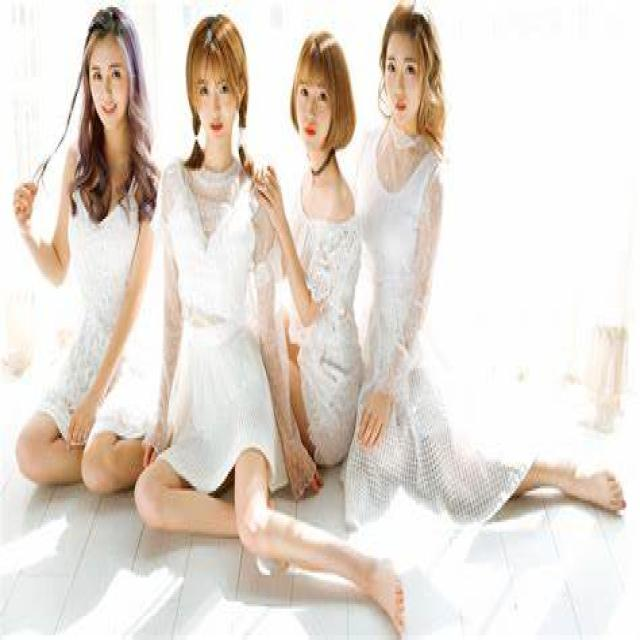sit: (136, 10, 296, 576), (16, 3, 162, 495), (349, 10, 464, 532), (254, 15, 366, 507)
